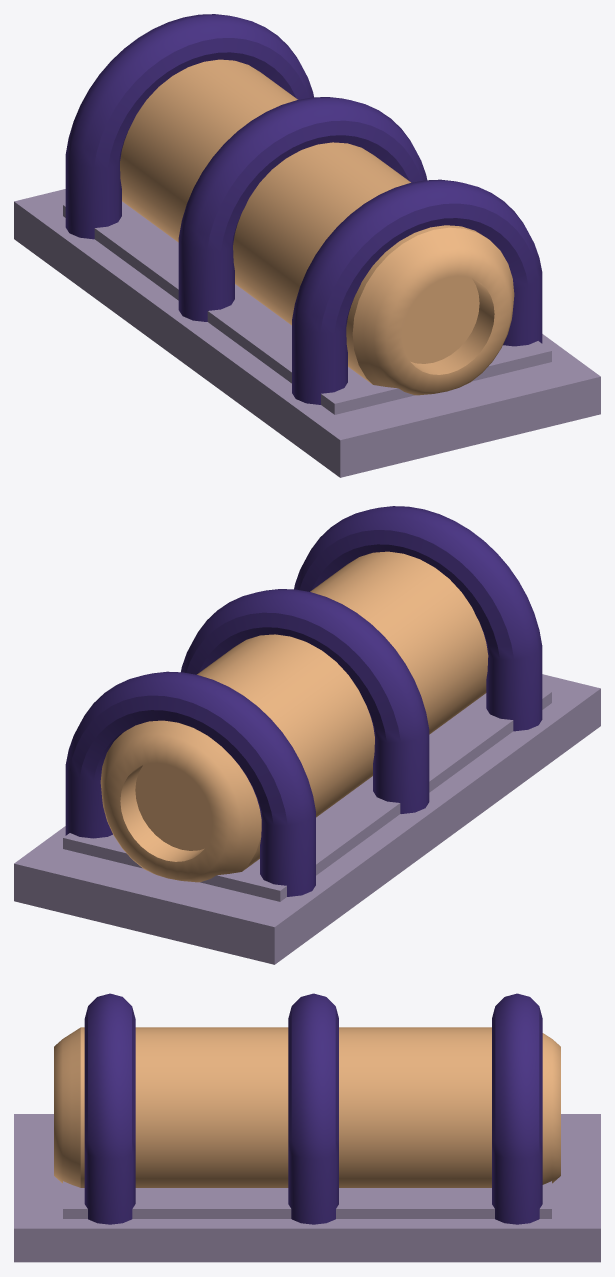
Rendered from lamp (1).fbx.
3 renders of one model, top to bottom at view 1: azimuth 30°, elevation 25°; view 2: azimuth 150°, elevation 25°; view 3: azimuth 270°, elevation 25°, orthographic. The views are drawn at different scales.
Parts seen in each view (by area): view 1: Torus, lamp, Cube; view 2: Torus, lamp, Cube; view 3: lamp, Cube, Torus.
Boxes of the visible parts, x1,y1,x2,y2 form: Torus: (65, 14, 542, 404); lamp: (120, 59, 514, 395); Cube: (14, 189, 600, 477); Torus: (65, 506, 542, 896); lamp: (100, 551, 488, 882); Cube: (14, 674, 600, 964); lamp: (54, 1027, 560, 1187); Cube: (14, 1114, 600, 1262); Torus: (84, 993, 542, 1224).
Bounding box in the file's own units: 266 × 217 × 577.
